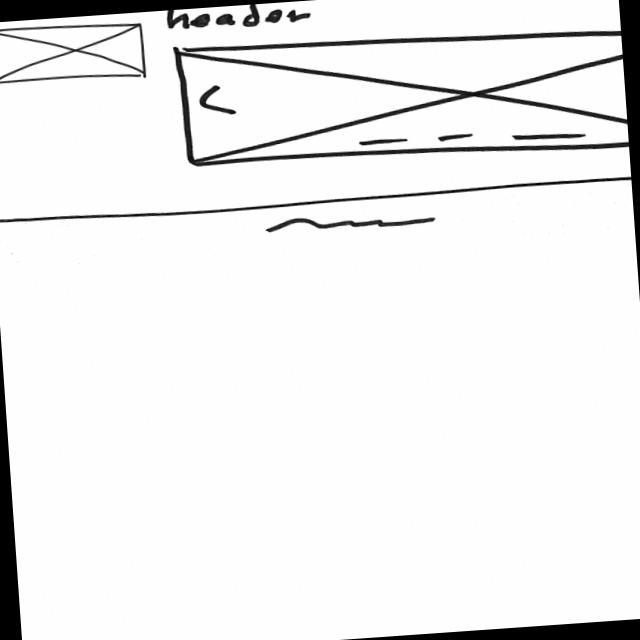image: (171, 15, 628, 178), (0, 17, 149, 88)
label: (163, 0, 315, 32)
text: (261, 206, 441, 238)
